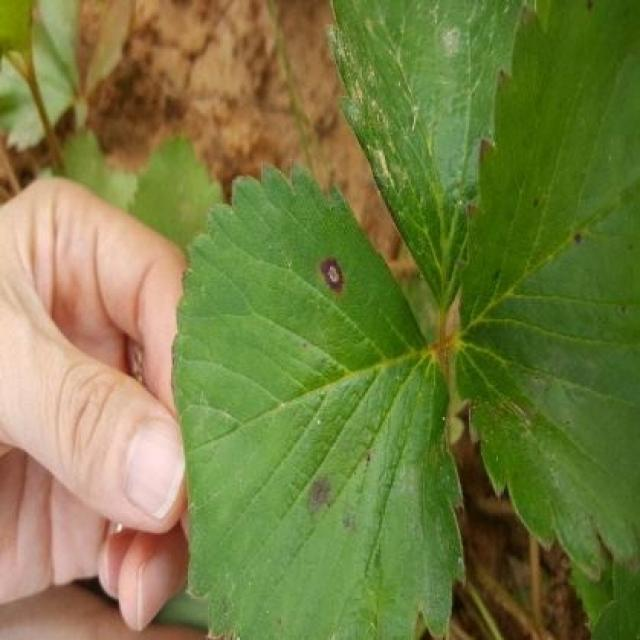Leaf Spot: (169, 161, 466, 638), (456, 0, 638, 582)
